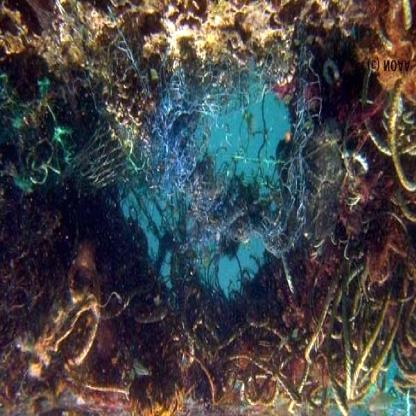net: (1, 3, 416, 396)
